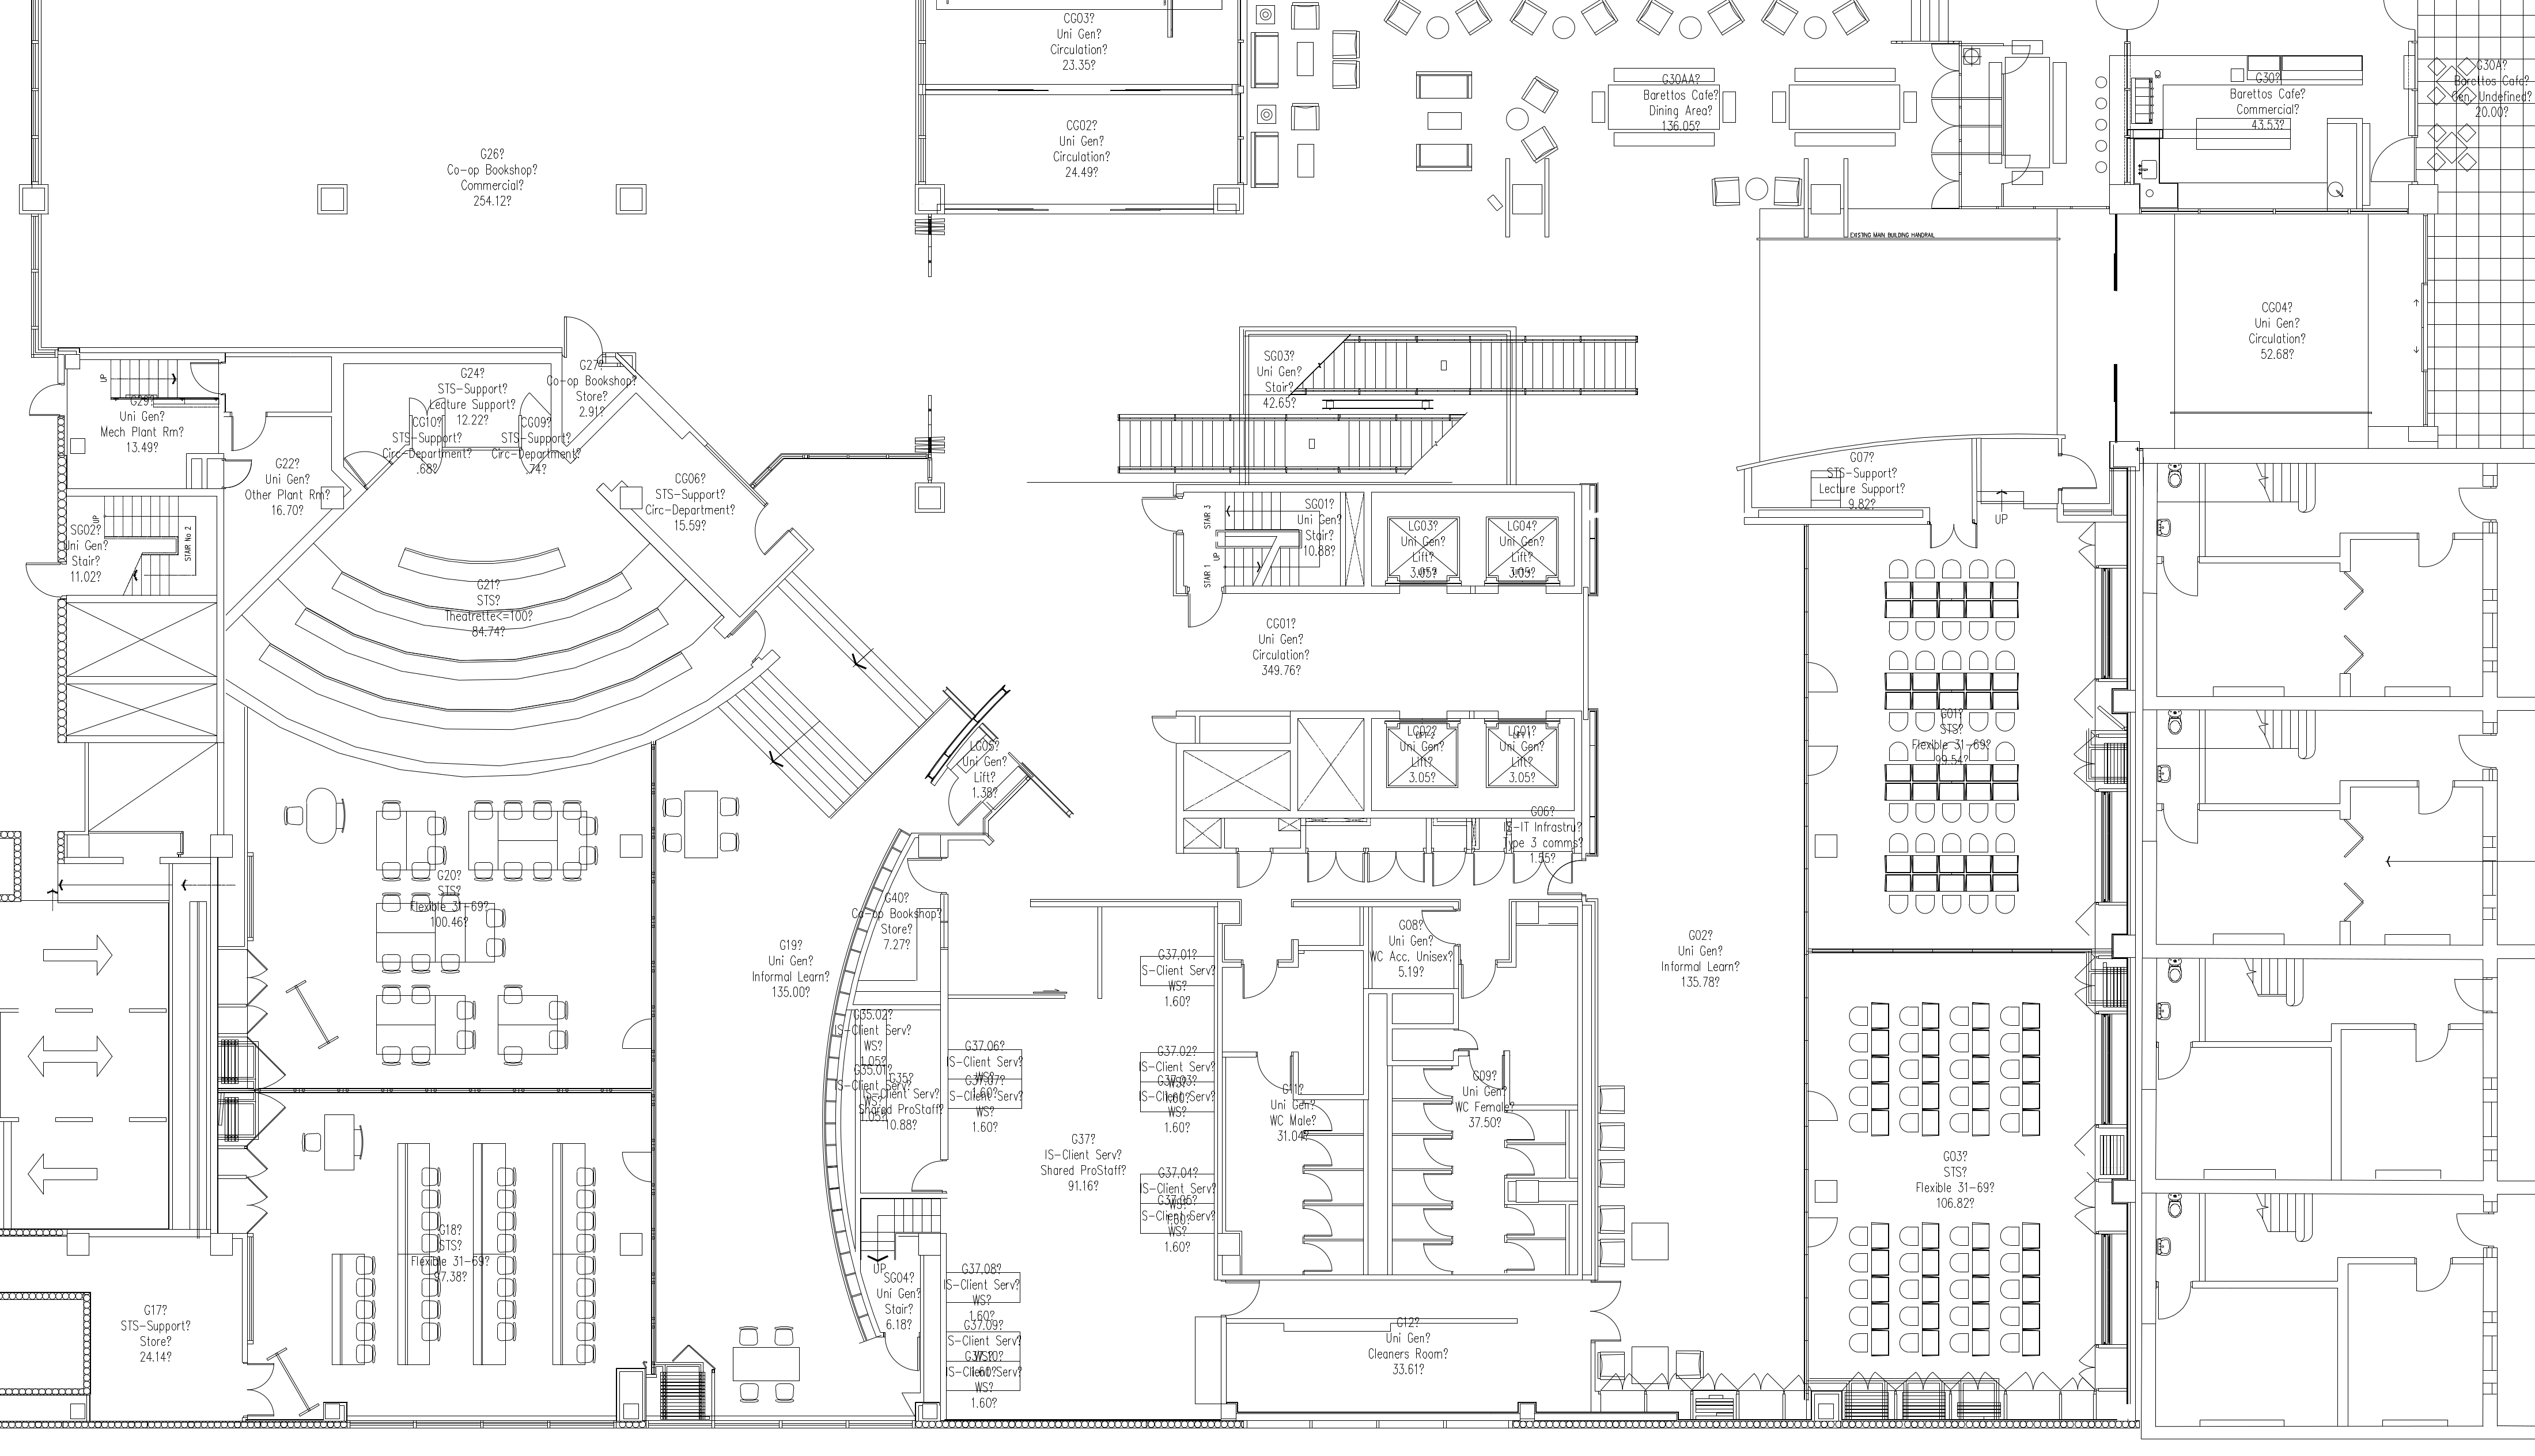door: (1304, 845, 1367, 891), (1367, 845, 1429, 891), (1920, 150, 1966, 210), (749, 499, 792, 558), (561, 306, 604, 365), (1917, 42, 1960, 101), (735, 605, 778, 665), (1920, 97, 1962, 157), (1924, 513, 1981, 555), (2047, 452, 2103, 494), (1590, 1277, 1624, 1343), (2370, 137, 2415, 184), (244, 1359, 279, 1418), (228, 407, 272, 454), (2453, 974, 2497, 1018), (2411, 1023, 2455, 1066), (1419, 905, 1461, 950), (1222, 1277, 1266, 1319), (2413, 1254, 2457, 1296), (2453, 1209, 2497, 1251), (1429, 849, 1469, 894), (1238, 962, 1280, 1004), (1233, 849, 1274, 891), (2457, 729, 2495, 774), (1805, 739, 1844, 785), (1804, 656, 1842, 701), (883, 1331, 919, 1378), (1461, 962, 1501, 1004), (1255, 1049, 1295, 1091), (1804, 1212, 1842, 1256), (1804, 1082, 1842, 1125), (2157, 1040, 2195, 1084), (2161, 802, 2199, 845), (2161, 553, 2199, 597), (2415, 531, 2453, 574), (2417, 778, 2455, 821), (2462, 480, 2498, 525), (905, 854, 944, 896), (1186, 590, 1227, 628), (2157, 1280, 2194, 1324), (1137, 494, 1177, 532), (1142, 708, 1179, 750), (185, 360, 228, 395), (1299, 1240, 1341, 1275), (1501, 1242, 1543, 1277), (1419, 1204, 1461, 1239), (1417, 1171, 1459, 1206), (1501, 1145, 1543, 1179), (1301, 1206, 1341, 1240), (1301, 1167, 1341, 1202), (1299, 1138, 1339, 1172), (1419, 1240, 1459, 1275), (1499, 1204, 1539, 1239), (1417, 1134, 1457, 1169), (221, 459, 256, 494), (620, 1018, 653, 1054), (620, 1150, 653, 1186), (911, 1157, 944, 1193)
